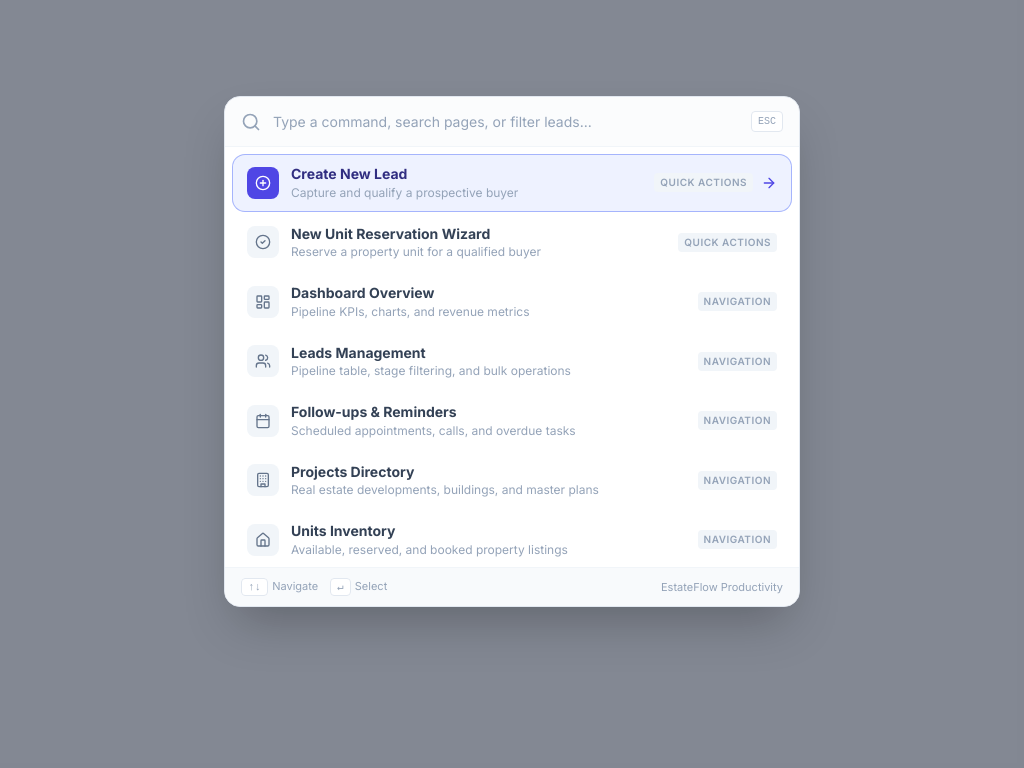
Scenario: CommandPalette Component › filters commands as user types query
Type "reservation" into the field with placeholder "Type a command, search pages, or filter leads...".
click(506, 122); type("reservation")  # box [273,112,739,132]
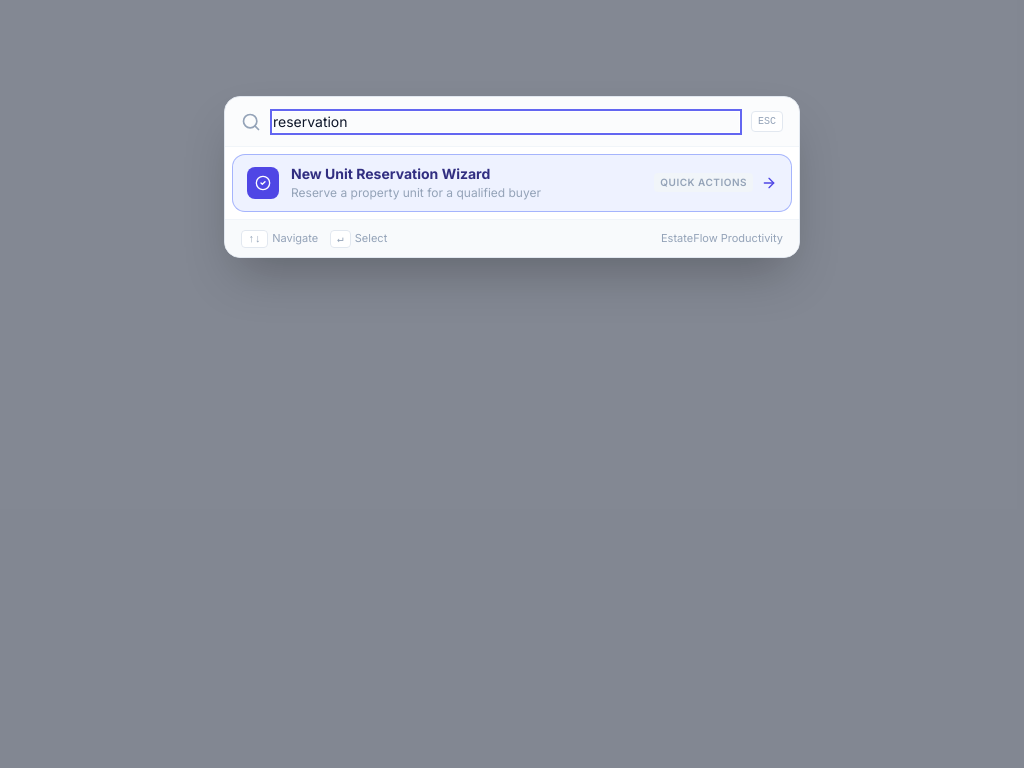
Expected: the text "New Unit Reservation Wizard" is shown, [291,165,490,182]
Now the option "Dashboard Overview" is gone
